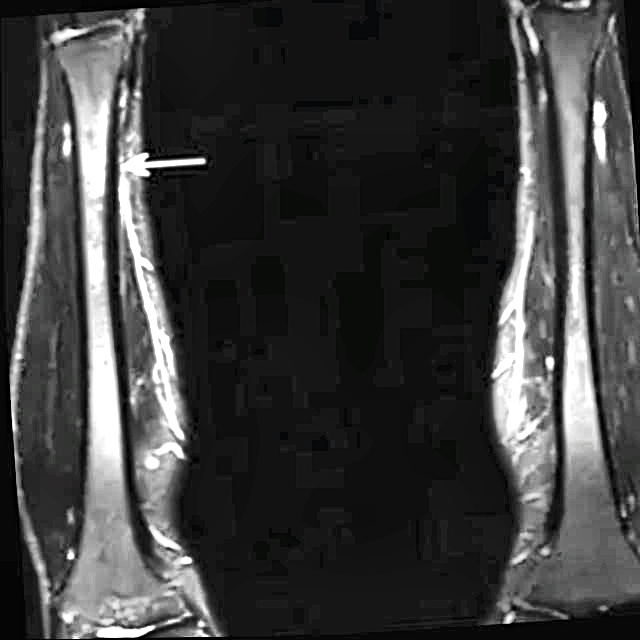Greenstick: (79, 142, 114, 204)
